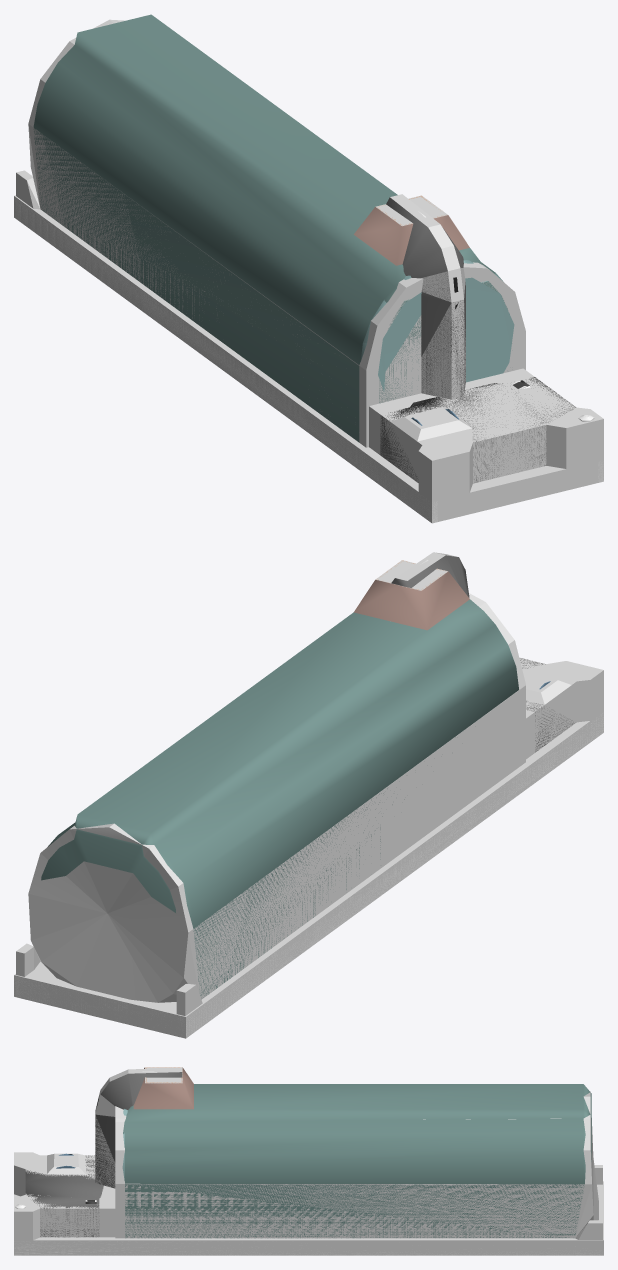
File: s_quarry_watertank_01.dae
3 views of the same model, one above another, from view 1: azimuth 30°, elevation 25°; view 2: azimuth 150°, elevation 25°; view 3: azimuth 270°, elevation 25° (orthographic). The views are drawn at different scales.
Parts seen in each view (by area): view 1: s_quarry_watertank_01_a30, Colmesh_s_quarry_watertank_01-1, s_quarry_watertank_01_a200, s_quarry_watertank_01_a75; view 2: s_quarry_watertank_01_a30, Colmesh_s_quarry_watertank_01-1, s_quarry_watertank_01_a200, s_quarry_watertank_01_a75; view 3: s_quarry_watertank_01_a30, Colmesh_s_quarry_watertank_01-1, s_quarry_watertank_01_a200.
Part boxes in pixels (<box>): s_quarry_watertank_01_a30: <box>33,14,575,482</box>; Colmesh_s_quarry_watertank_01-1: <box>14,19,603,523</box>; s_quarry_watertank_01_a200: <box>14,195,602,522</box>; s_quarry_watertank_01_a75: <box>360,211,603,522</box>; s_quarry_watertank_01_a30: <box>41,555,574,998</box>; Colmesh_s_quarry_watertank_01-1: <box>14,552,603,1038</box>; s_quarry_watertank_01_a200: <box>14,560,603,1037</box>; s_quarry_watertank_01_a75: <box>14,559,543,1034</box>; s_quarry_watertank_01_a30: <box>25,1067,591,1238</box>; Colmesh_s_quarry_watertank_01-1: <box>14,1067,603,1255</box>; s_quarry_watertank_01_a200: <box>14,1067,603,1255</box>.
Size of the model in its own units: 2.35 by 9.91 by 2.88.
